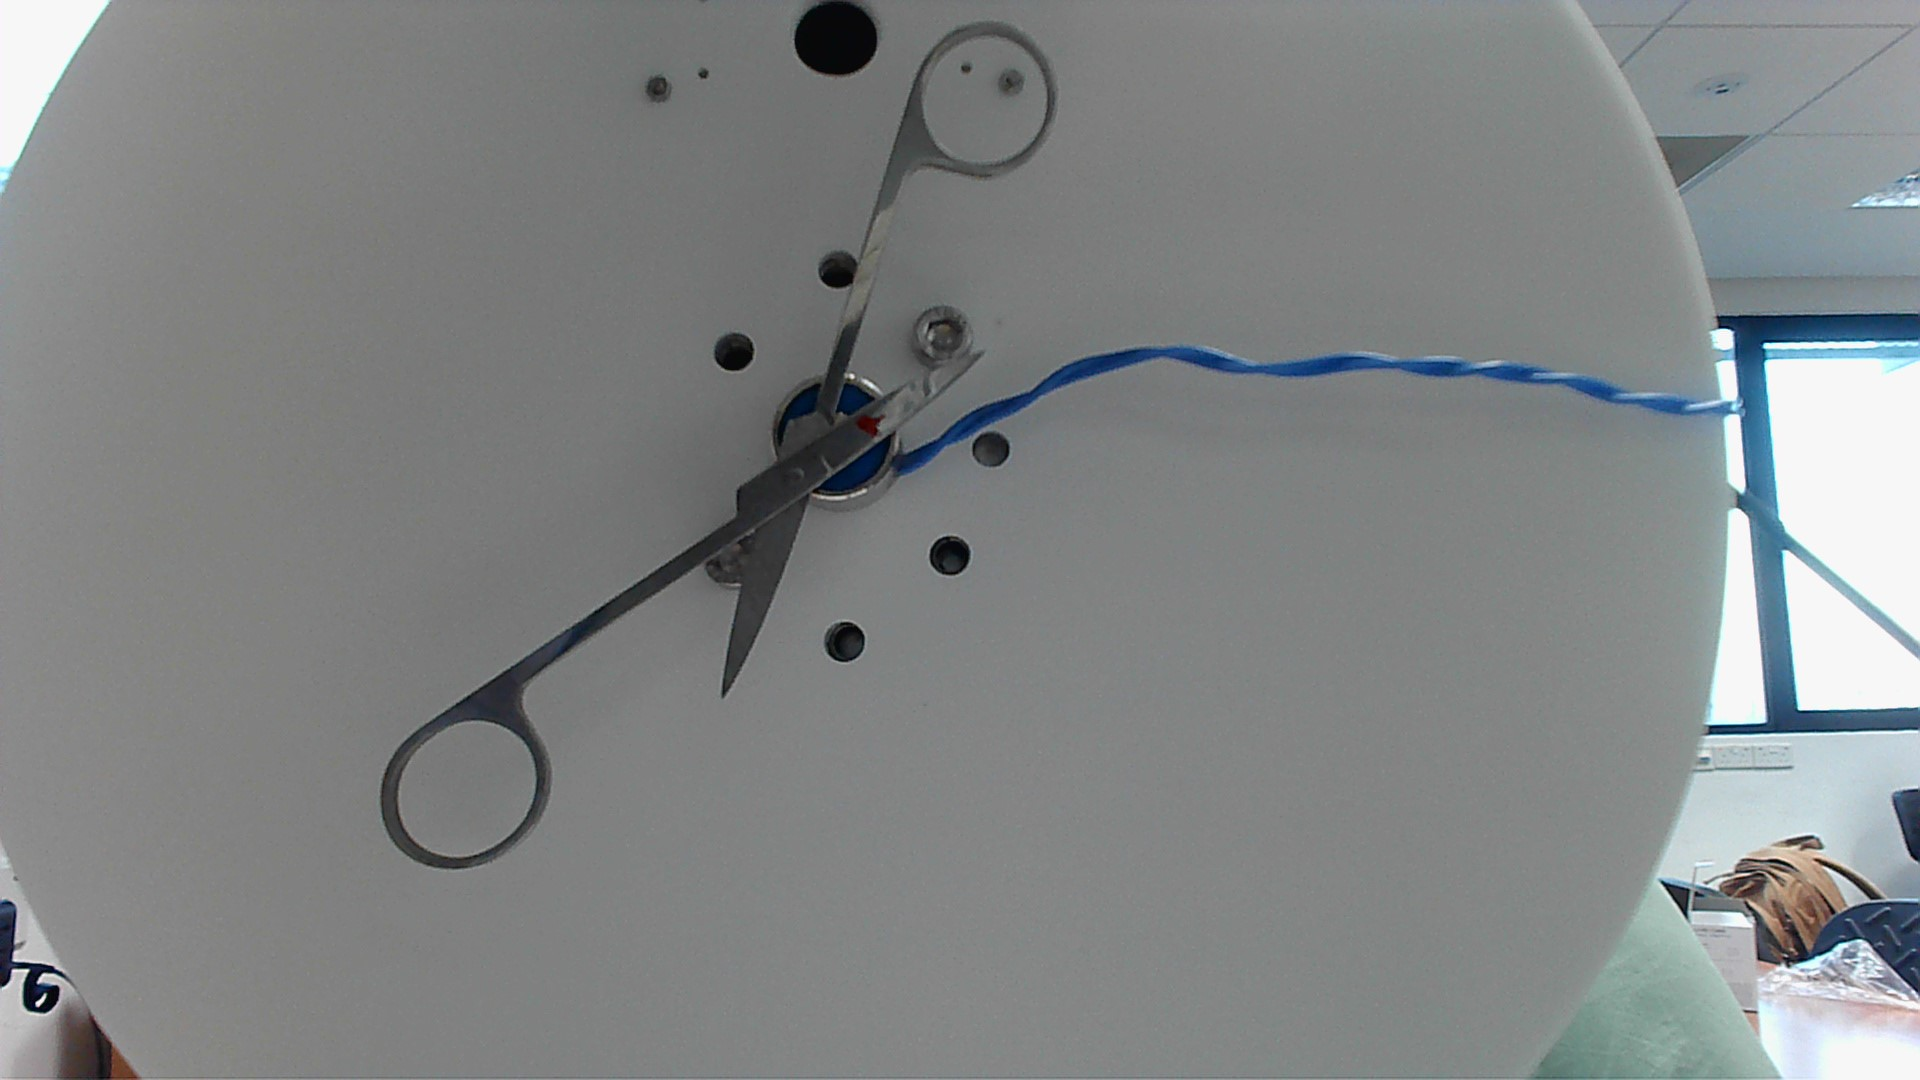Stain: (852, 411, 893, 440)
